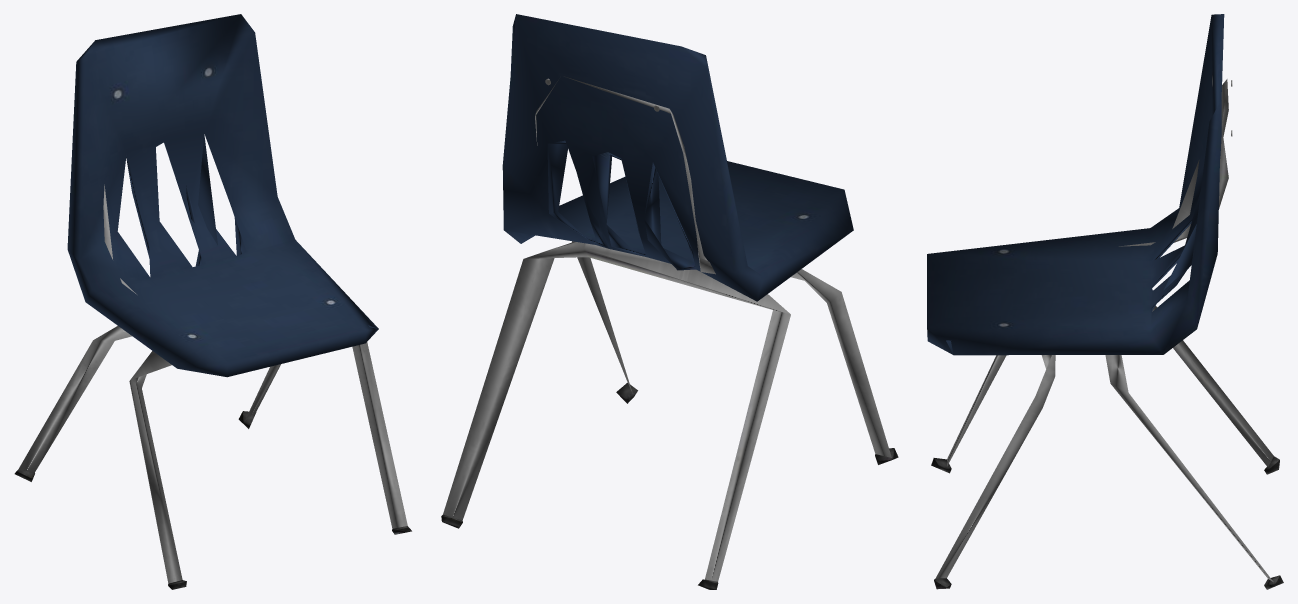
File: chair.glb
The picture shows the model from 3 angles, left to right: view 1: azimuth 30°, elevation 25°; view 2: azimuth 150°, elevation 25°; view 3: azimuth 270°, elevation 25°; orthographic projection. The views are drawn at different scales.
Visible parts, largest first — view 1: SchoolChair_01; view 2: SchoolChair_01; view 3: SchoolChair_01.
Part boxes in pixels (x1,y1,x2,y2): SchoolChair_01: (14,14,411,589); SchoolChair_01: (441,14,898,589); SchoolChair_01: (927,14,1283,589).
Size of the model in its own units: 0.5658 by 1 by 0.6692.
Materials: 1 (1 with a texture image).
